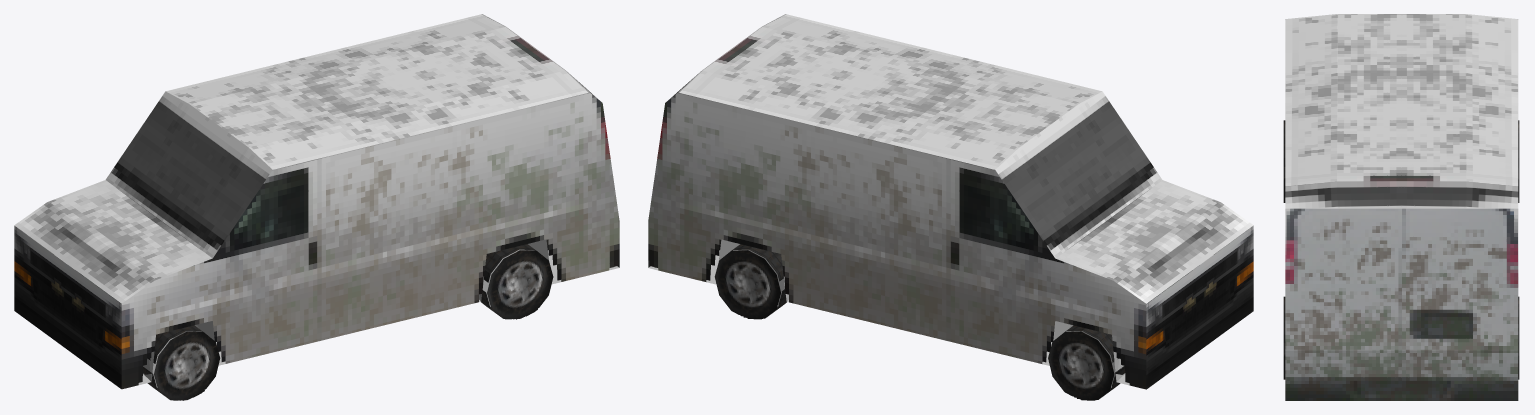
Rendered from van.fbx.
3 views of the same model, side by side, from view 1: azimuth 30°, elevation 25°; view 2: azimuth 150°, elevation 25°; view 3: azimuth 270°, elevation 25° (orthographic). The views are drawn at different scales.
Parts seen in each view (by area): view 1: Mainframe, Wheels, Wheels.002; view 2: Mainframe, Wheels.001, Wheels.003; view 3: Mainframe, Wheels, Wheels.002.
Part boxes in pixels (<box>): Mainframe: <box>14,14,619,389</box>; Wheels: <box>481,244,553,319</box>; Wheels.002: <box>143,325,220,400</box>; Mainframe: <box>648,14,1253,389</box>; Wheels.001: <box>714,244,786,319</box>; Wheels.003: <box>1048,325,1125,400</box>; Mainframe: <box>1285,14,1518,400</box>; Wheels: <box>1283,296,1285,379</box>; Wheels.002: <box>1283,120,1285,202</box>.
Bounding box in the file's own units: 899 × 368 × 344.
